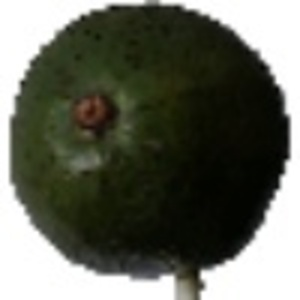abacate: (4, 5, 295, 274)
